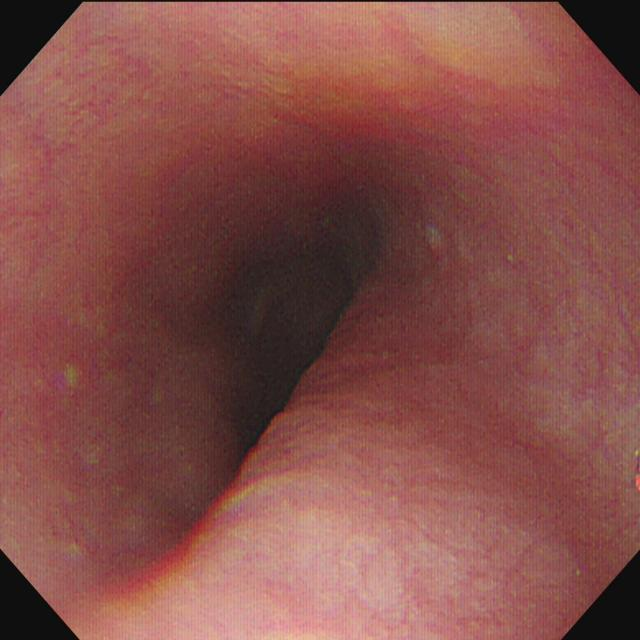E: (210, 181, 381, 445)
